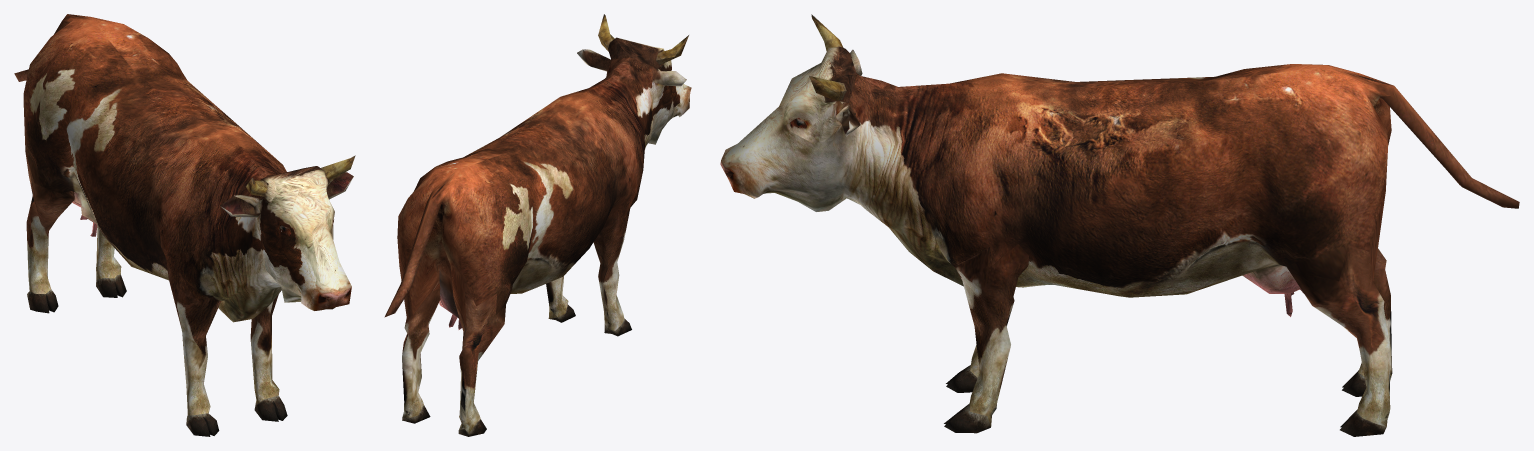
File: cow-stand-brown-cbj_LOD00.gltf
3 views of the same model, side by side, from view 1: azimuth 30°, elevation 25°; view 2: azimuth 150°, elevation 25°; view 3: azimuth 270°, elevation 25° (orthographic). The views are drawn at different scales.
Visible parts, largest first — view 1: Line01.008; view 2: Line01.008; view 3: Line01.008.
Boxes of the visible parts, x1=… form: Line01.008: x1=14, y1=14, x2=355, y2=436; Line01.008: x1=384, y1=14, x2=691, y2=436; Line01.008: x1=720, y1=14, x2=1519, y2=436.
Size of the model in its own units: 0.8423 by 1.75 by 3.48.
